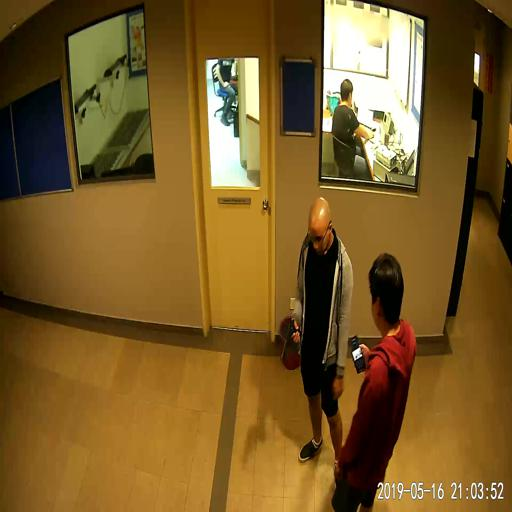pistol: (280, 320, 301, 359)
